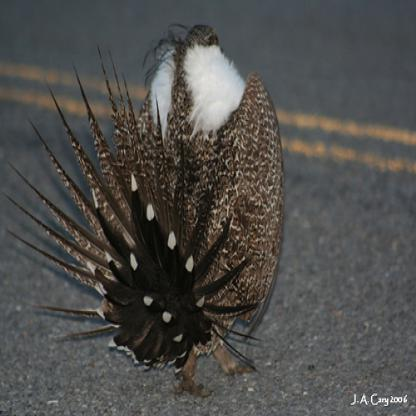bird: (0, 21, 286, 398)
